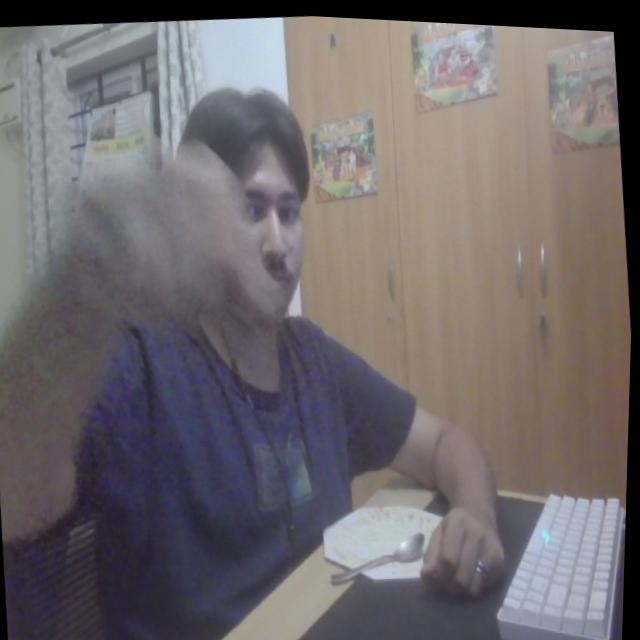yes: (42, 121, 304, 363)
